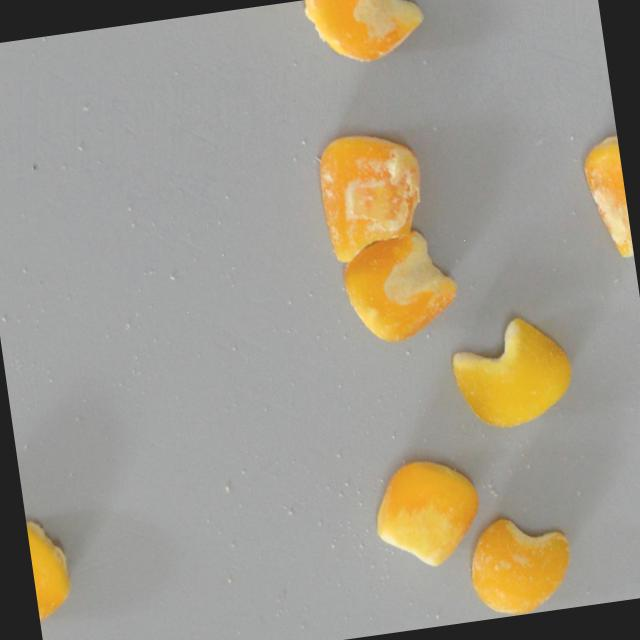no_canjicado: (446, 311, 578, 436), (367, 453, 487, 575)
no_desgerminado: (332, 224, 462, 350)
pelicula: (296, 126, 432, 268), (464, 509, 577, 621), (303, 0, 429, 70), (579, 134, 634, 263), (24, 509, 80, 632)
